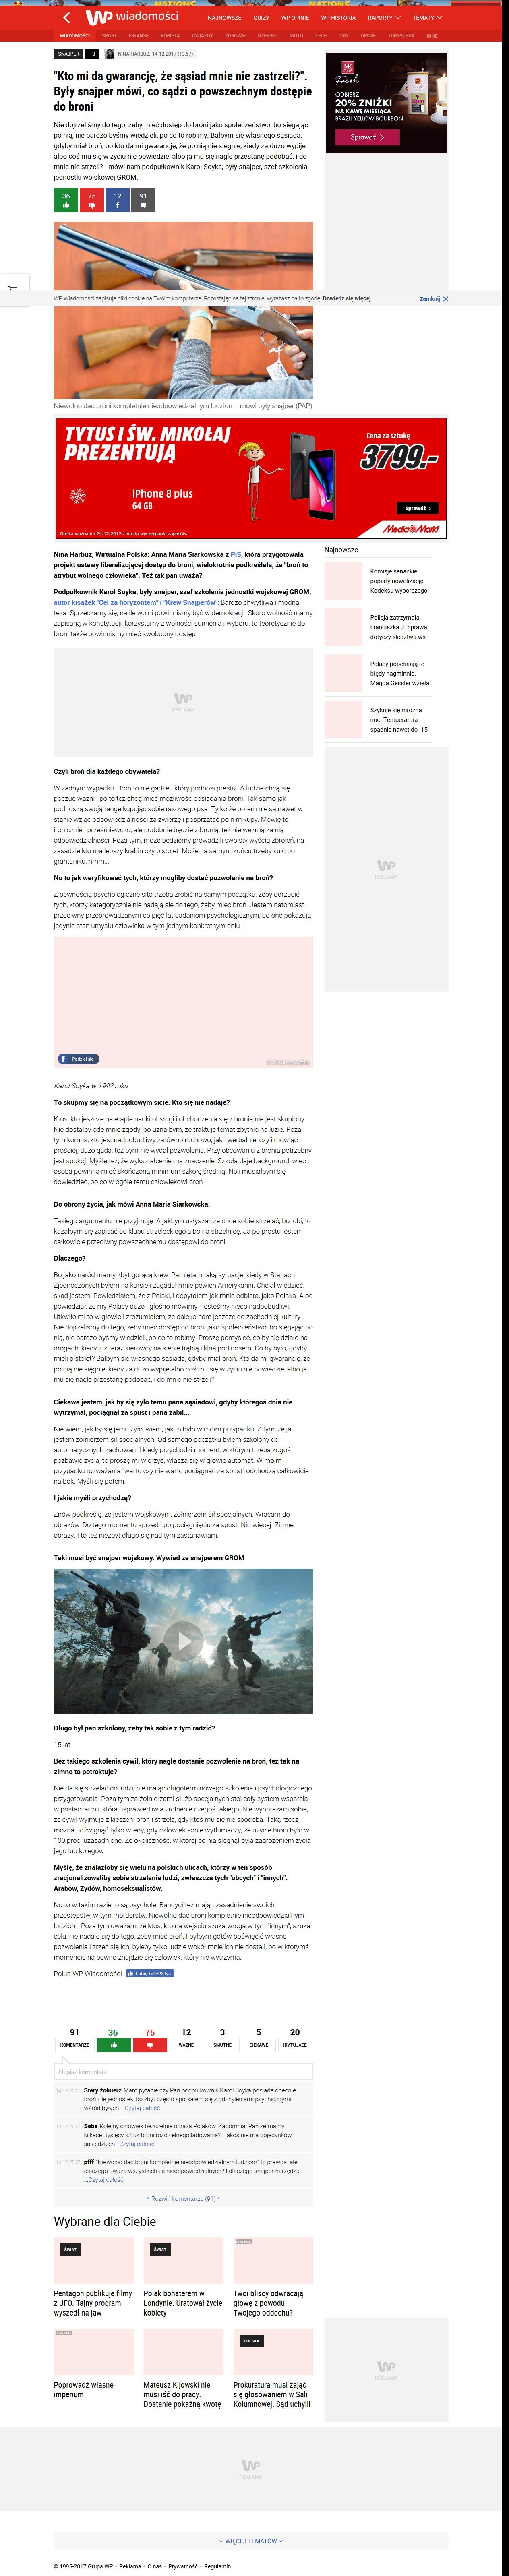title: (53, 69, 312, 113)
